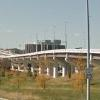Bridge: (2, 46, 99, 76)
